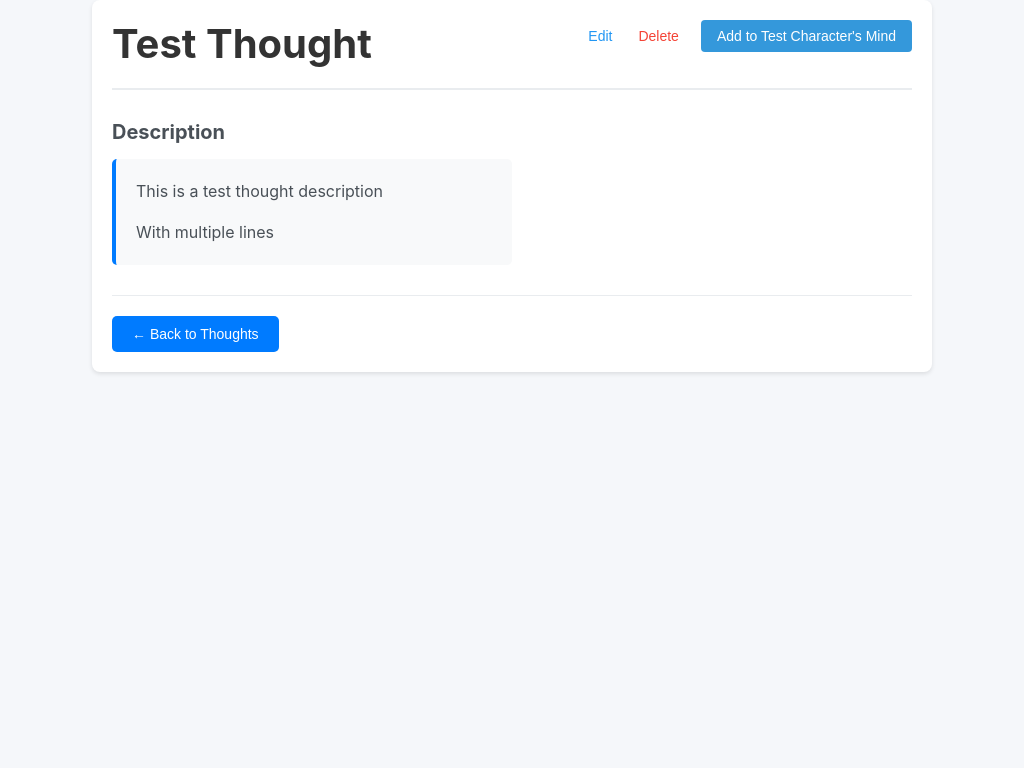
Test: ThoughtView Component › Add to Character Mind › handles not found error message
Expected: the heading "Test Thought" is shown, top-left (112, 20), bottom-right (372, 68)
Click the button "Add to Test Character's Mind": point(806, 36) top-left (701, 20), bottom-right (912, 52)
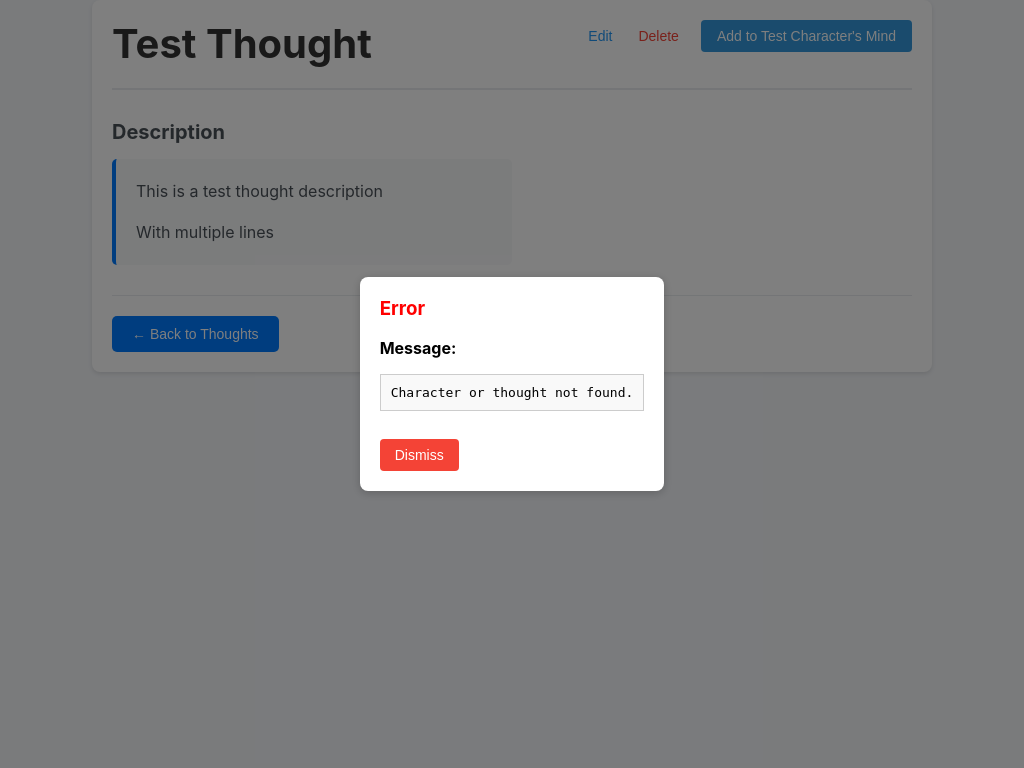
Expected: the text "Character or thought not found." is shown, top-left (380, 374), bottom-right (644, 411)
